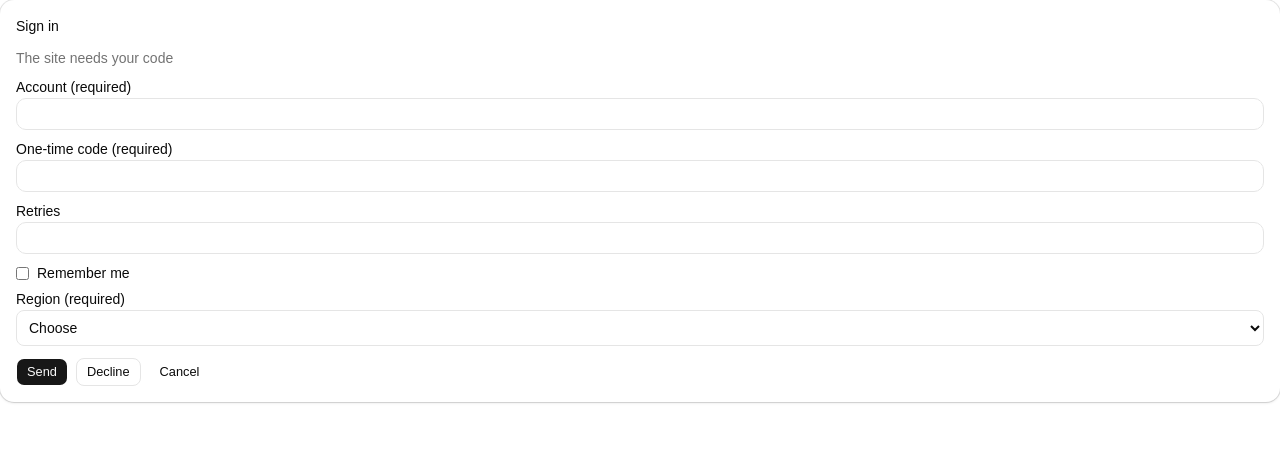
it: InputCard › masks a secret field and names the fields still to fill
The image size is (1280, 452).
What coordinates should you click on to do the following:
click the button "Send"
I would click on:
 (42, 372)
Its box is [16, 358, 68, 386].
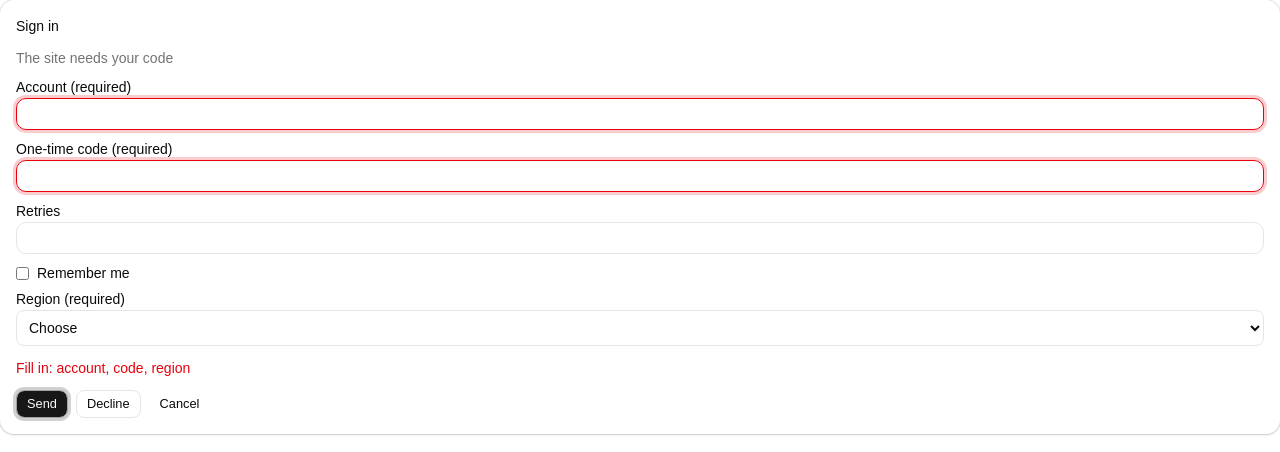
Expected: the message shows "account", [56, 360, 190, 376]
